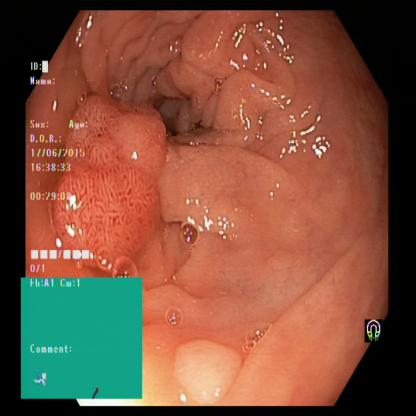Polyps: (78, 96, 159, 258)
